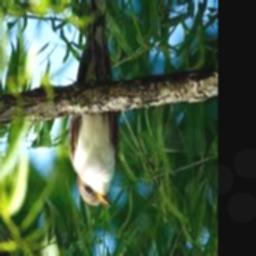Cuckoo: (69, 0, 118, 209)
